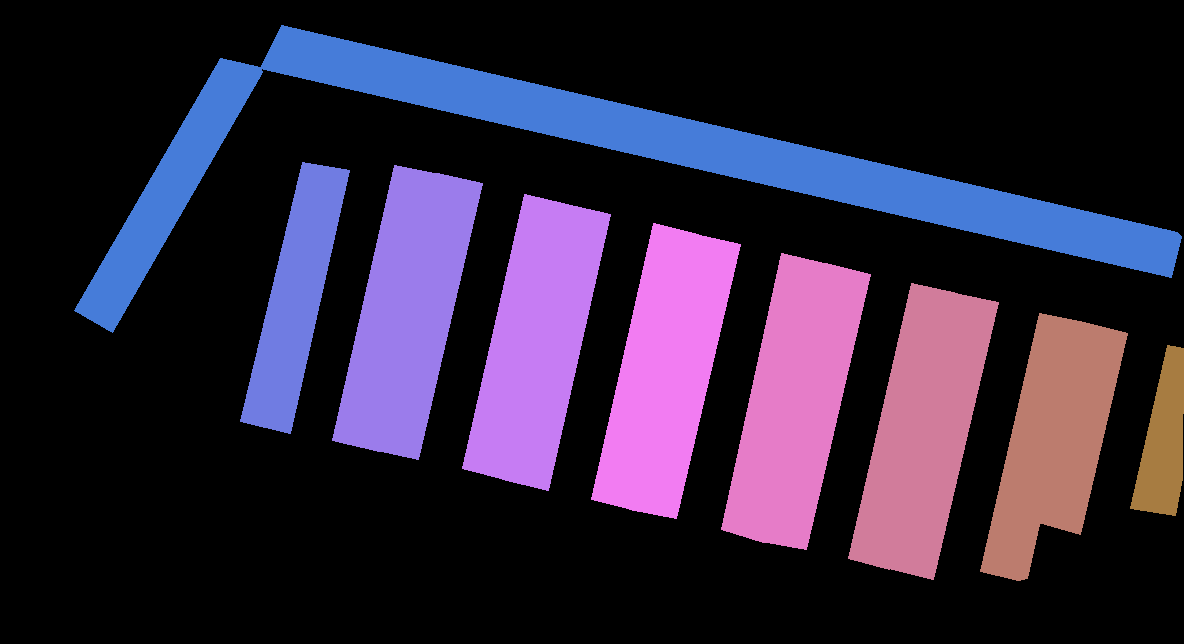parkingspot: (260, 25, 1181, 277), (74, 58, 262, 332), (629, 234, 740, 518), (372, 173, 482, 459), (888, 293, 998, 579), (761, 263, 870, 549), (848, 283, 957, 569), (502, 204, 610, 490), (332, 165, 439, 451), (591, 223, 698, 509), (462, 194, 567, 479), (721, 253, 824, 542), (240, 162, 349, 433), (980, 313, 1084, 580), (1038, 322, 1127, 534), (1130, 345, 1183, 515)
